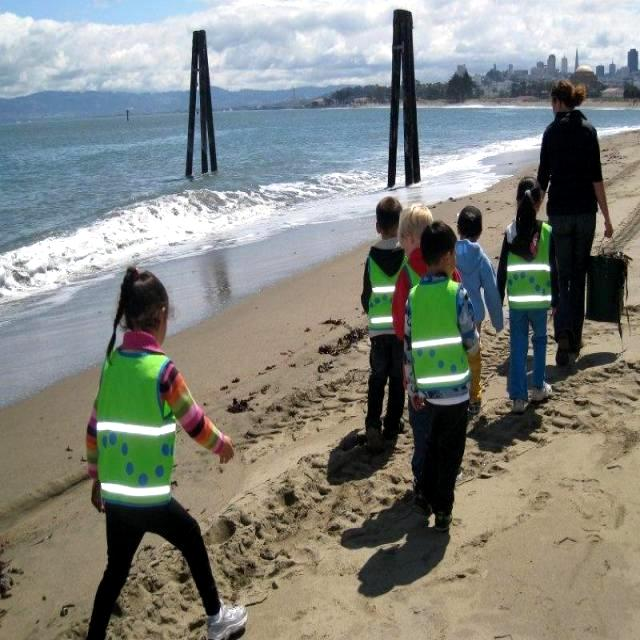no_head_wear: (114, 266, 168, 337), (421, 220, 456, 275), (376, 196, 402, 239), (517, 177, 544, 217), (552, 80, 582, 107), (458, 206, 482, 233)
person: (86, 267, 246, 639), (537, 81, 613, 367), (404, 221, 469, 528), (497, 177, 558, 412), (361, 196, 404, 448), (457, 205, 502, 333)
